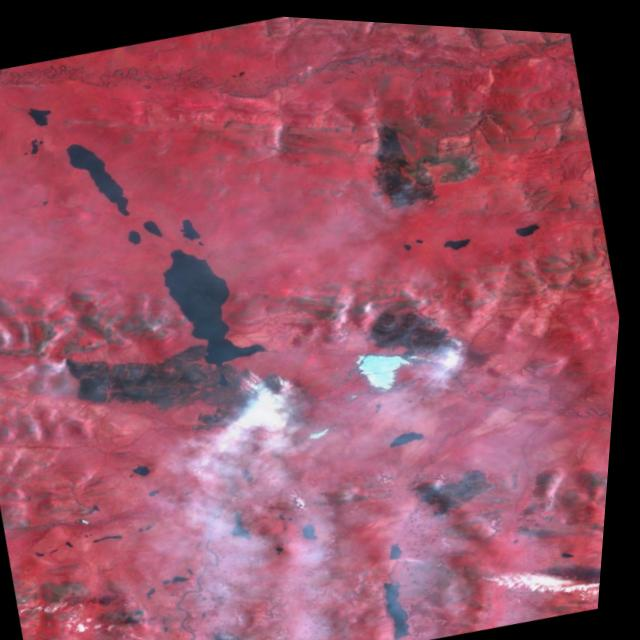fire: (166, 340, 332, 458), (406, 309, 495, 374)
